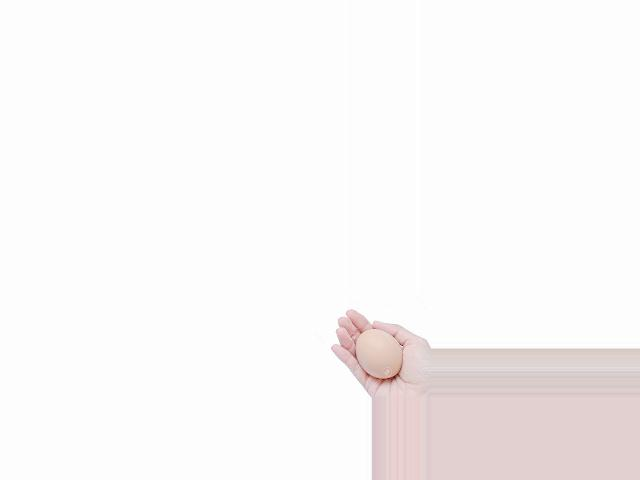egg: (355, 329, 402, 378)
